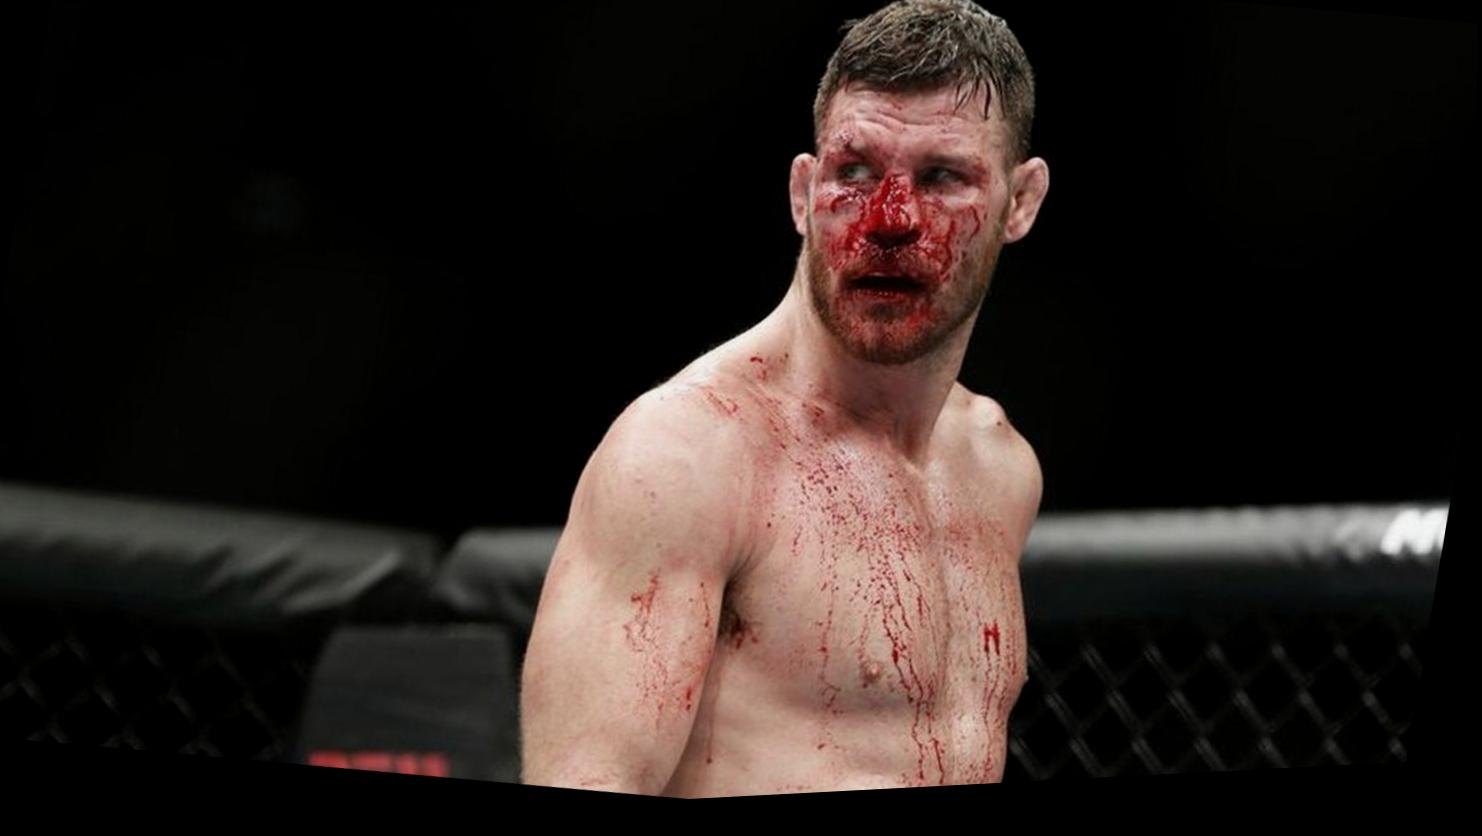Fire: (616, 353, 1030, 799), (806, 170, 1008, 374)
